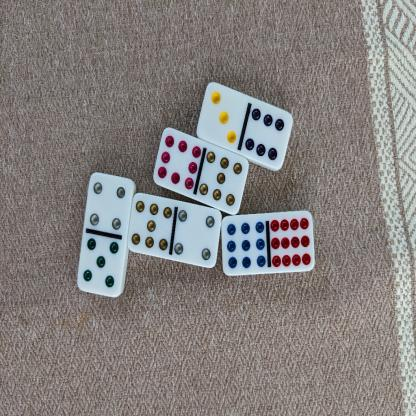pip-12: (269, 210, 314, 272)
pip-3: (196, 81, 246, 146)
pip-4: (85, 170, 133, 235), (173, 206, 221, 266)
pip-5: (76, 235, 120, 297)
pip-6: (243, 101, 293, 169)
pip-7: (199, 148, 248, 213), (126, 191, 173, 253)
pip-8: (152, 126, 200, 190)
pip-9: (221, 213, 268, 278)
